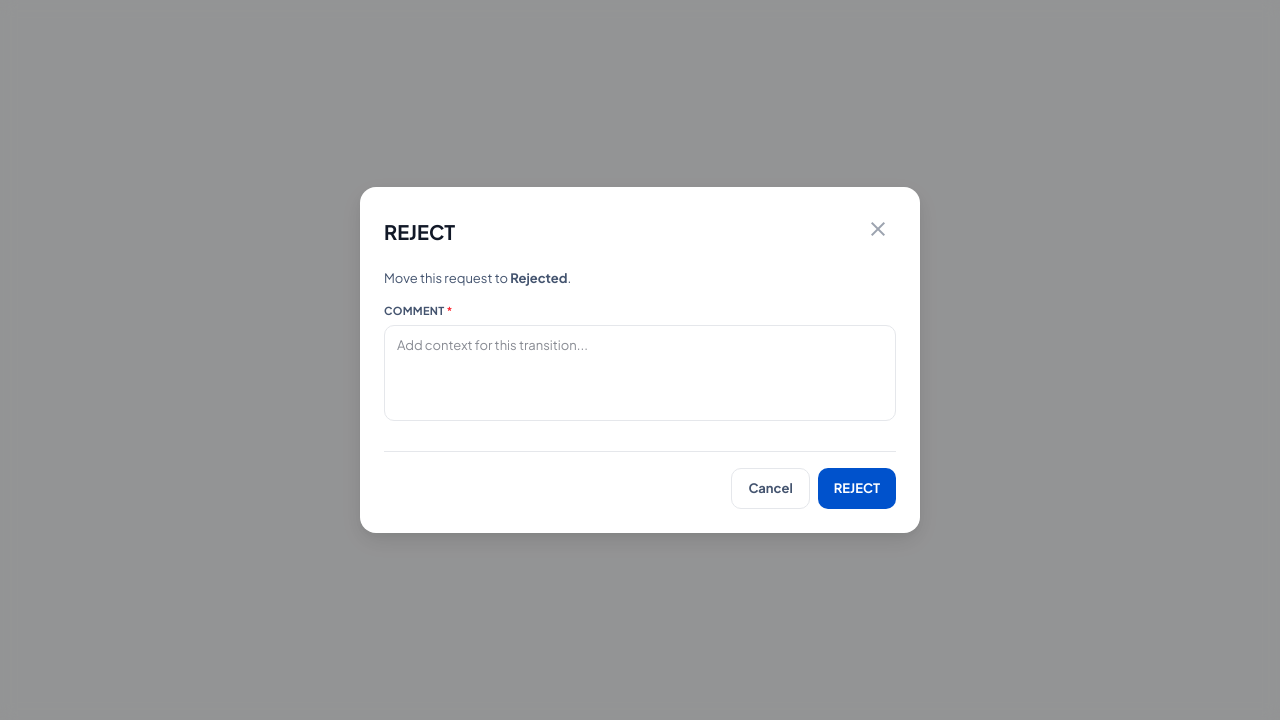
Test: GenericTransitionModal › requires a comment before submitting a comment-required transition
The image size is (1280, 720).
Click the button "REJECT".
click(857, 488)  # box left=818, top=468, right=896, bottom=509
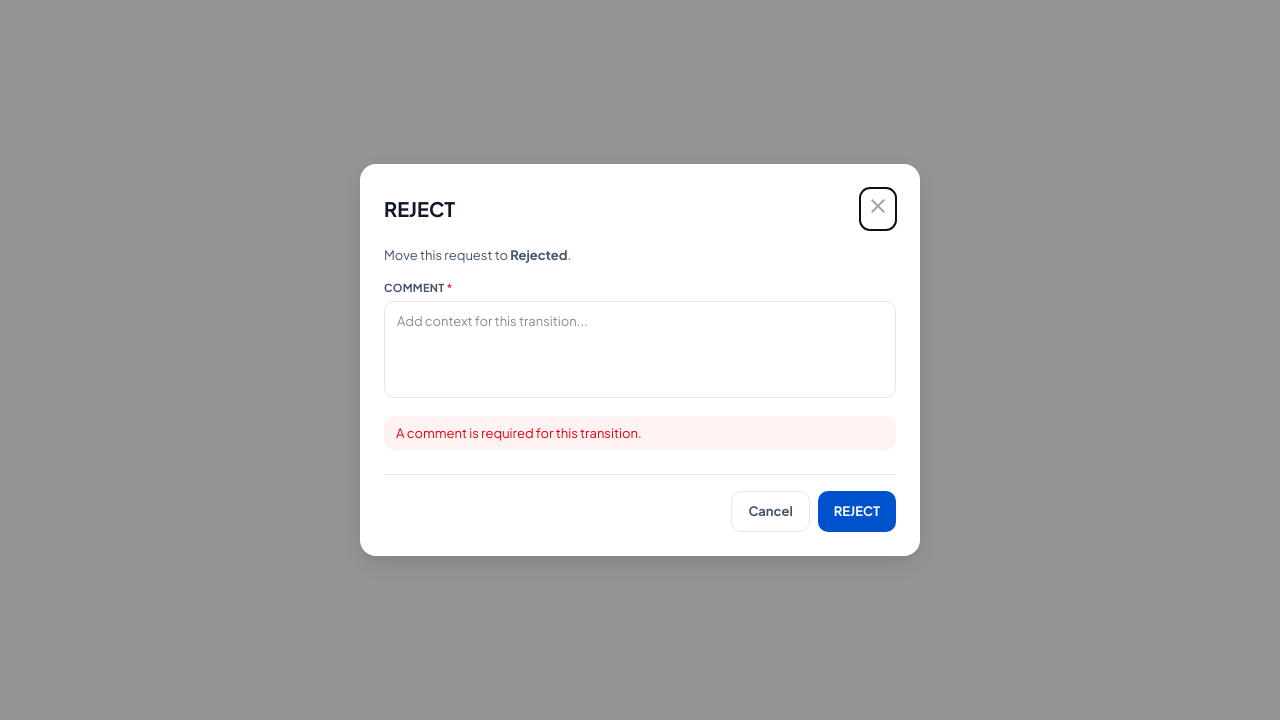
Expected: the text "A comment is required for this transition." is shown, left=384, top=416, right=896, bottom=450
